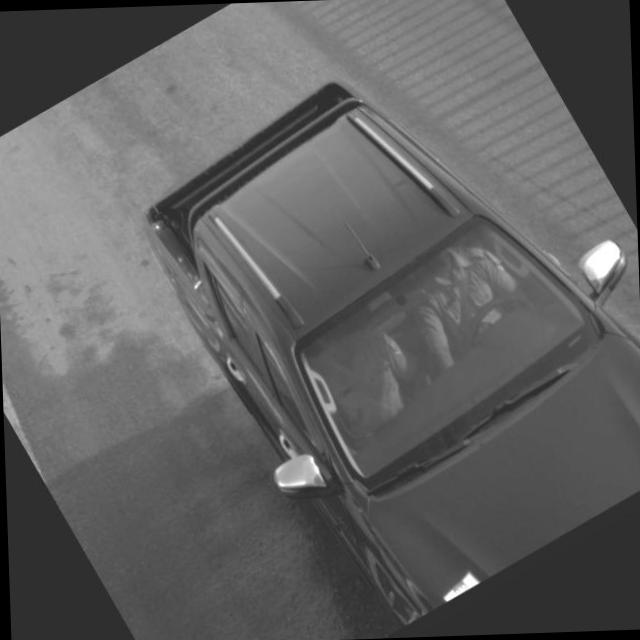person_with_seatbelt: (401, 222, 536, 408)
